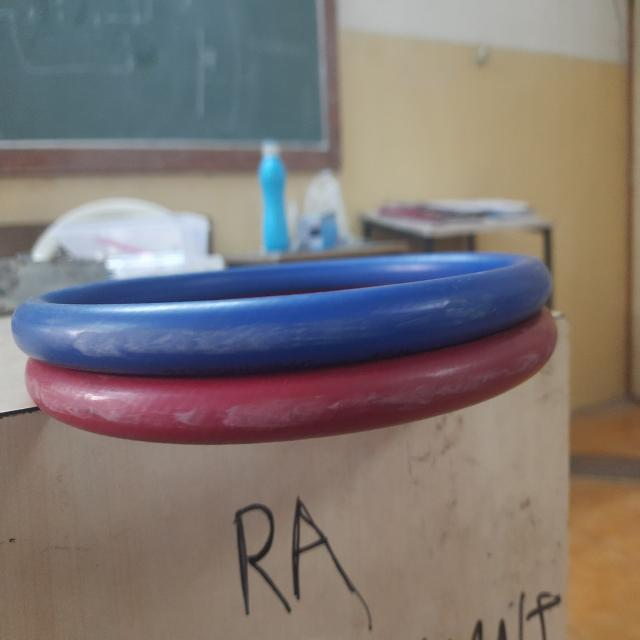daire: (18, 268, 541, 361), (50, 353, 514, 435)
